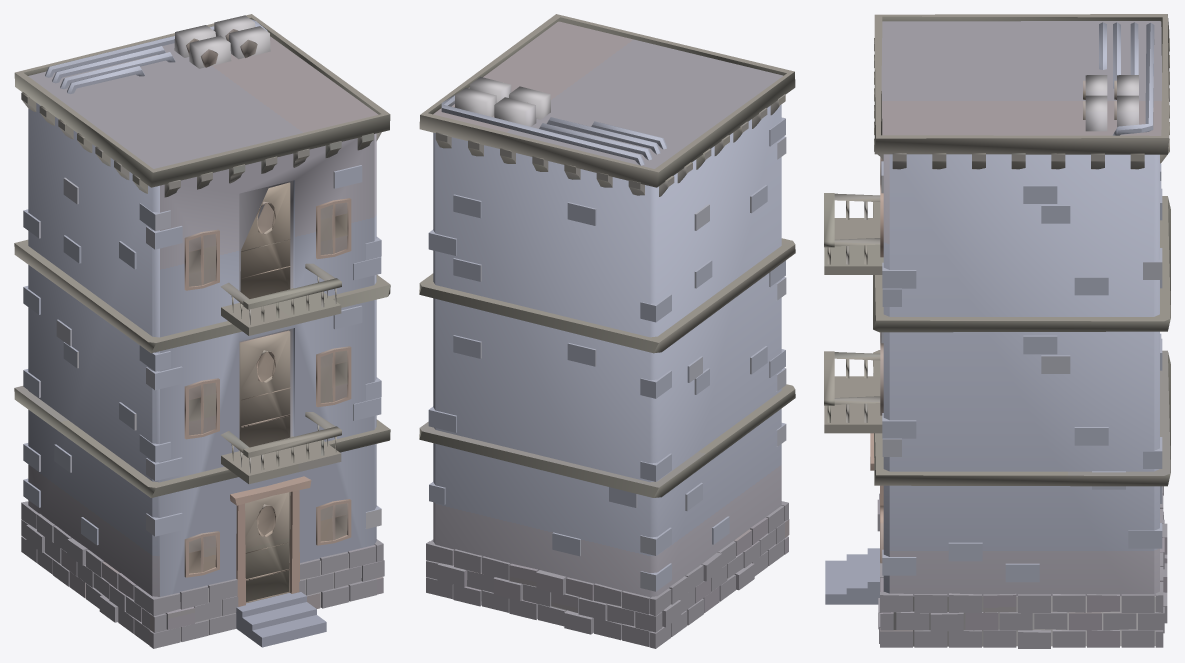
Rendered from motel-tower.glb.
3 renders of one model, left to right at view 1: azimuth 30°, elevation 25°; view 2: azimuth 150°, elevation 25°; view 3: azimuth 270°, elevation 25°, orthographic. The views are drawn at different scales.
Parts seen in each view (by area): view 1: 3Story_Balcony; view 2: 3Story_Balcony; view 3: 3Story_Balcony.
Boxes of the visible parts, x1,y1,x2,y2 form: 3Story_Balcony: (14,14,390,648); 3Story_Balcony: (419,14,795,648); 3Story_Balcony: (824,14,1170,648).
Size of the model in its own units: 0.8609 by 1.68 by 1.
1 material, 1 textured.
